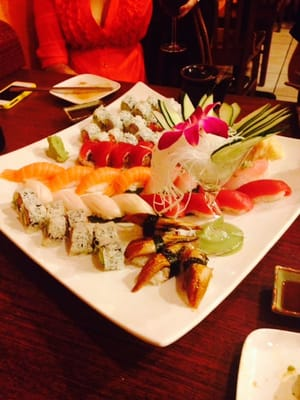sushi: (234, 328, 300, 400)
